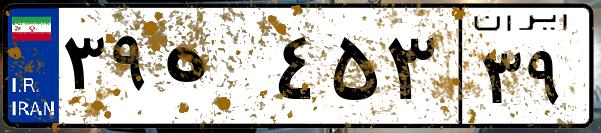3: (385, 28, 445, 110), (57, 26, 110, 100), (475, 38, 525, 113)
4: (270, 28, 330, 110)
5: (330, 28, 385, 110)
9: (525, 38, 570, 115), (110, 28, 158, 98)
ه: (158, 20, 270, 120)
